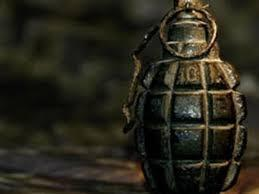Grenade: (120, 0, 247, 192)
